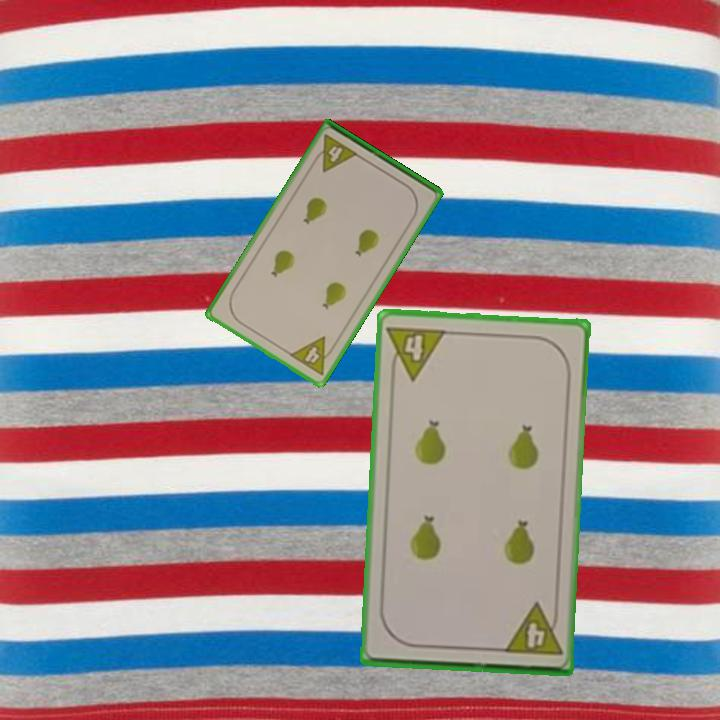4p: (383, 322, 449, 383), (499, 600, 565, 659), (286, 333, 340, 379), (309, 131, 361, 175)
